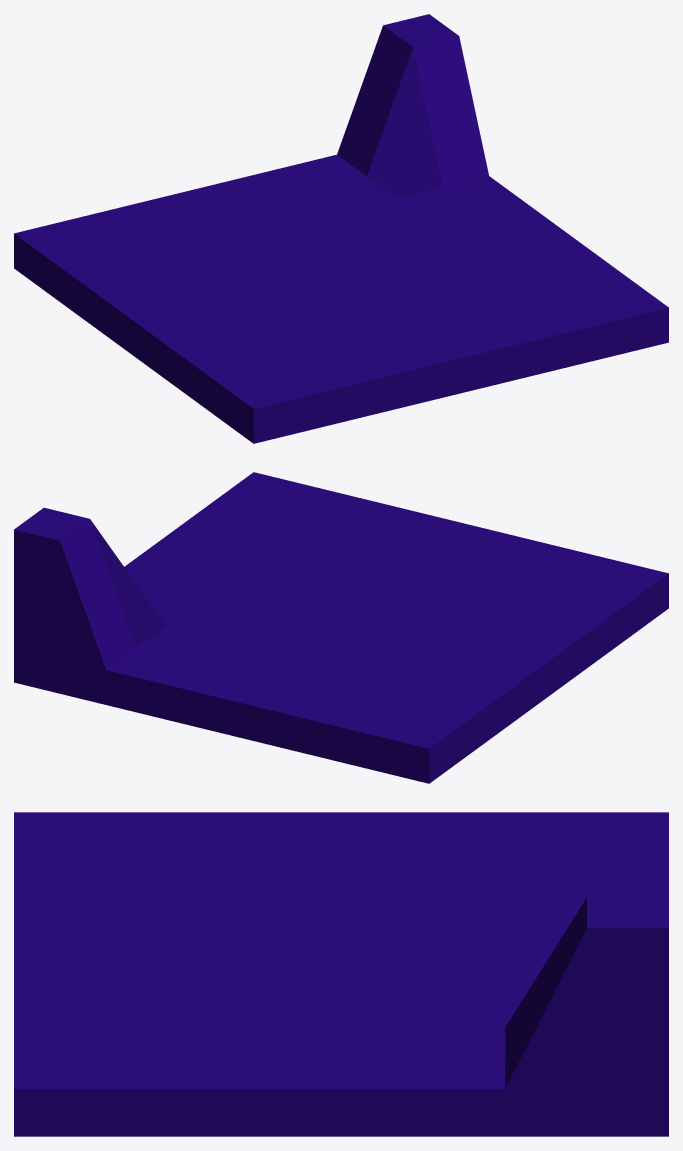
The picture shows the model from 3 angles, top to bottom: view 1: azimuth 30°, elevation 25°; view 2: azimuth 150°, elevation 25°; view 3: azimuth 270°, elevation 25°; orthographic projection. The views are drawn at different scales.
Visible parts, largest first — view 1: test; view 2: test; view 3: test.
Boxes of the visible parts, box(x1,y1,x2,y2) form: test: box(14, 14, 668, 443); test: box(14, 472, 668, 783); test: box(14, 812, 668, 1136).
Size of the model in its own units: 24.86 by 8.75 by 24.86.
